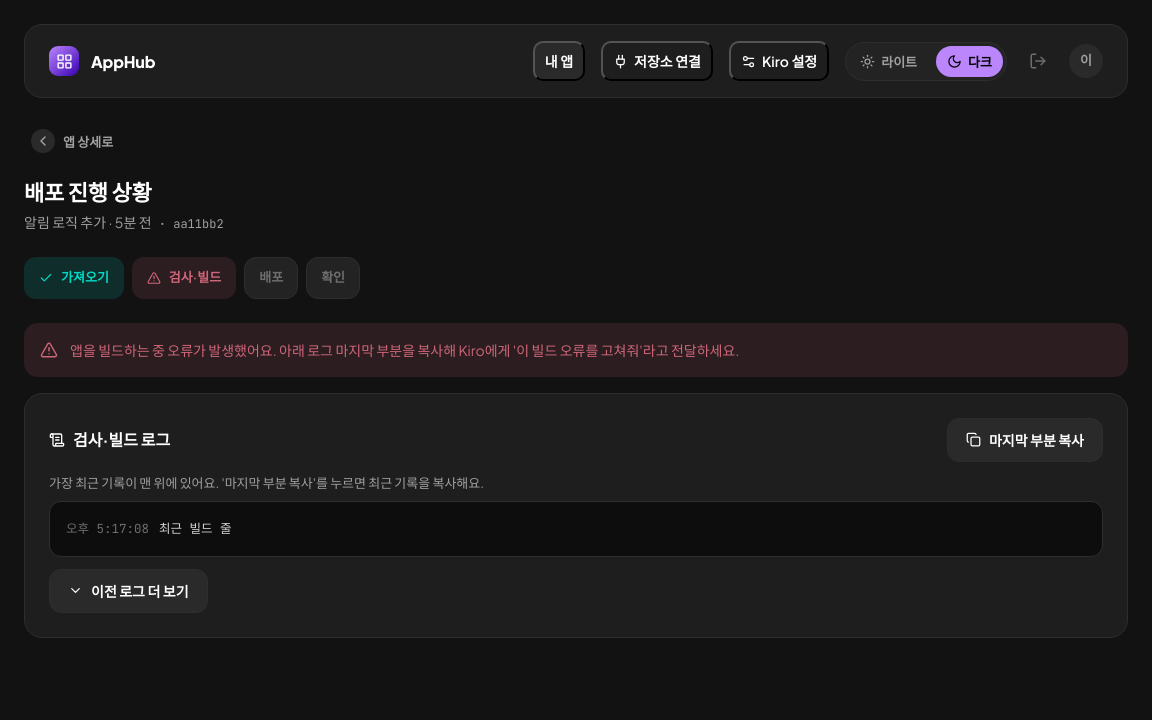
it: M6 — 배포 상세는 배포 단계 로그 엔드포인트를 쓴다 › '이전 로그 더 보기'는 nextToken 으로 더 오래된 배포 로그를 아래에 잇는다
Click the button "이전 로그 더 보기".
click(128, 591)  # box 49,569 -> 208,613
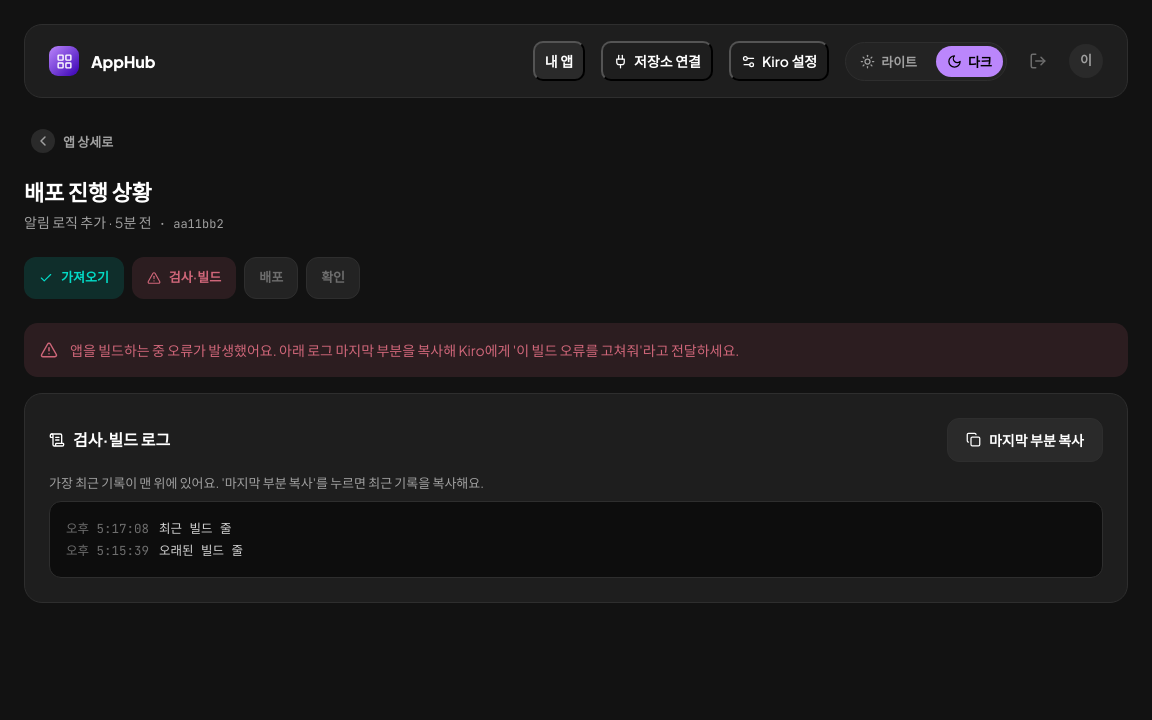
expect the element with class "log-line" shows "최근 빌드 줄": met, box 159,520 -> 232,537
expect the element with class "log-line" shows "오래된 빌드 줄": met, box 159,542 -> 243,559
expect the button "이전 로그 더 보기" is gone: met
